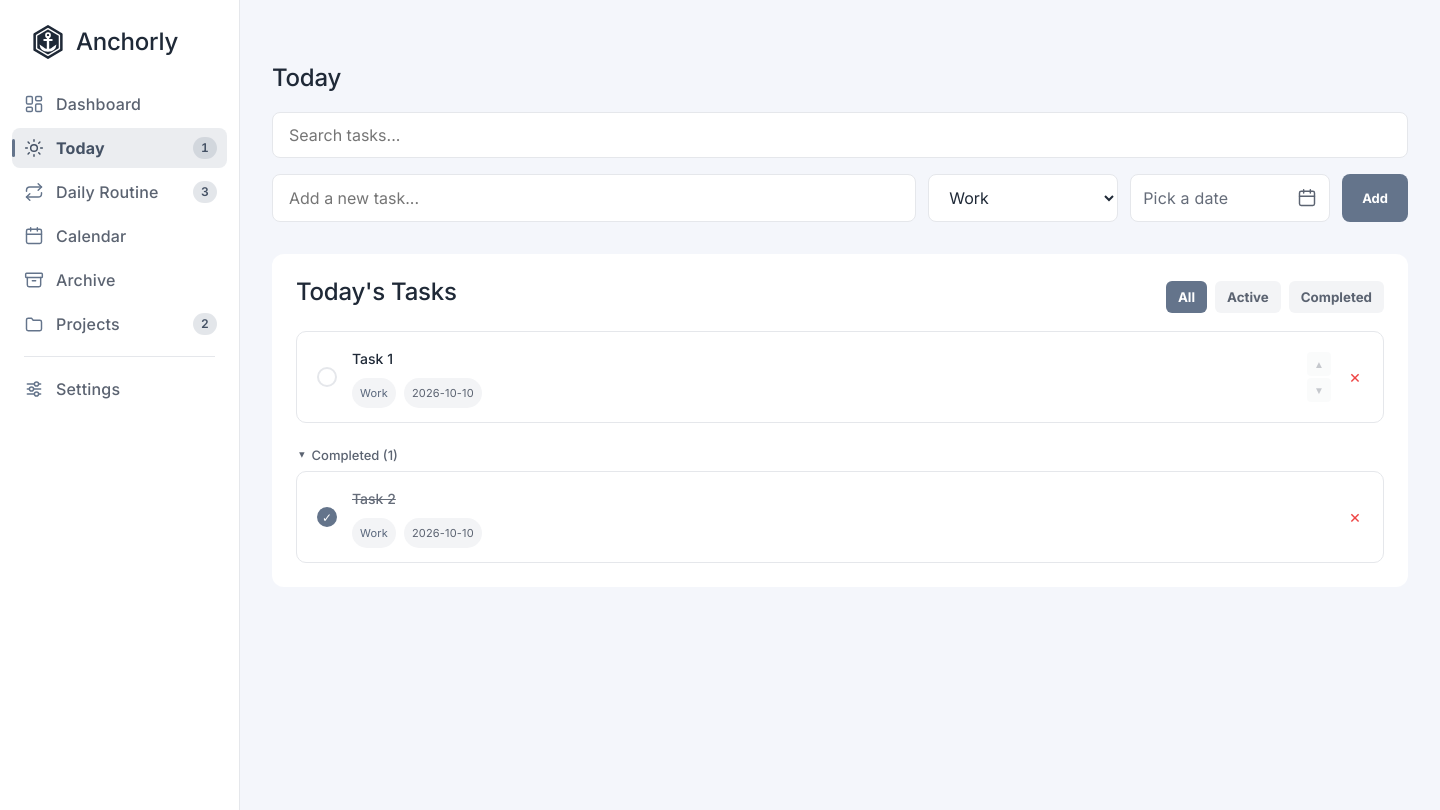
Test: App searching and filtering tasks › shows only active tasks with the Active filter
Click the button "Active".
click(1248, 297)  # box [1215,281,1281,313]
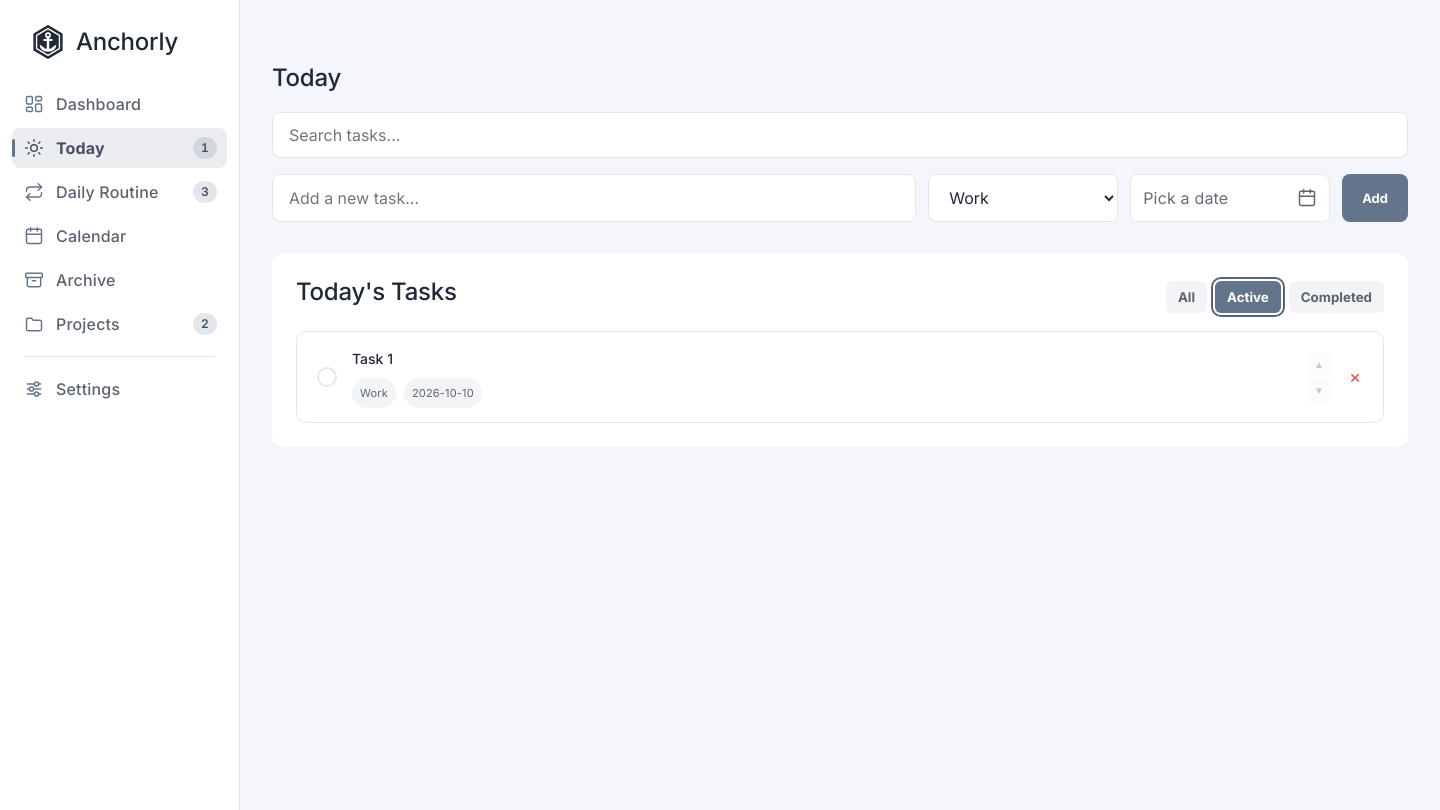
Expected: the list item "Task 1" is shown, [352,346,393,372]
Result: the button "Task 2" is gone
